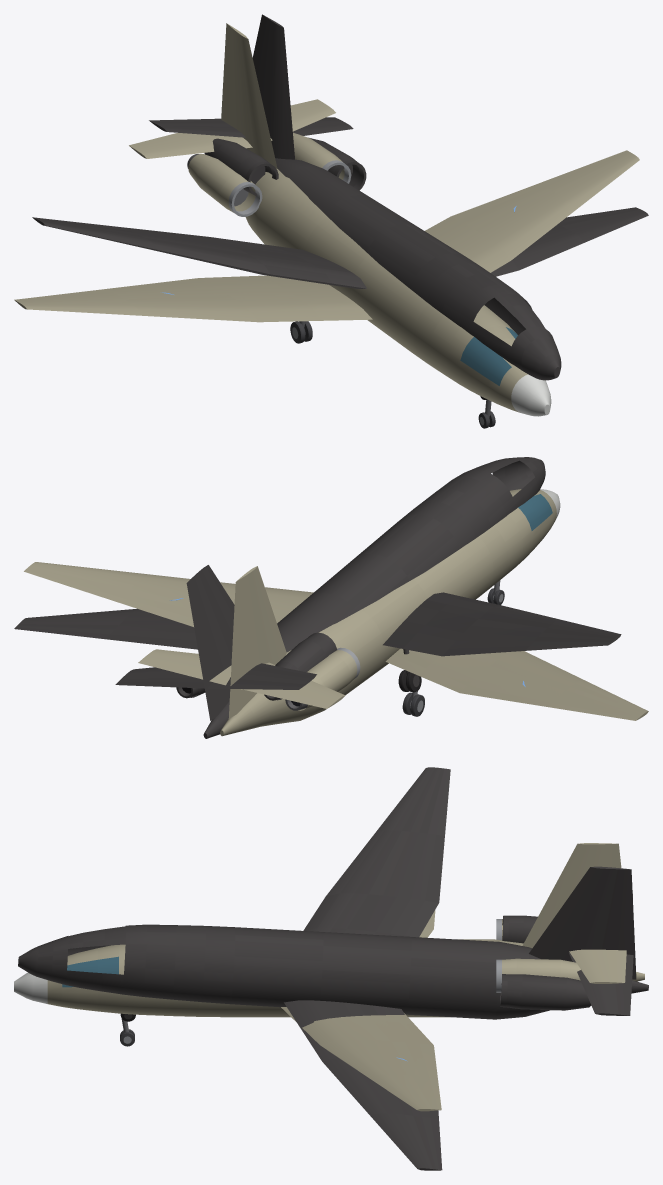
File: ewJet__falcon_2000lxs_baekdu_ii.glb
3 views of the same model, one above another, from view 1: azimuth 30°, elevation 25°; view 2: azimuth 150°, elevation 25°; view 3: azimuth 270°, elevation 25° (orthographic). The views are drawn at different scales.
Parts seen in each view (by area): view 1: Fuselage_Mesh, Wreck; view 2: Wreck, Fuselage_Mesh; view 3: Wreck, Fuselage_Mesh.
Part boxes in pixels (left/top/right/bottom): Fuselage_Mesh: left=14, top=23, right=639, bottom=428; Wreck: left=32, top=14, right=648, bottom=399; Wreck: left=14, top=457, right=621, bottom=738; Fuselage_Mesh: left=24, top=489, right=648, bottom=736; Wreck: left=18, top=767, right=648, bottom=1170; Fuselage_Mesh: left=14, top=843, right=644, bottom=1111.
Size of what is drawn, in the model's own units: 21.71 by 7.11 by 20.36.
